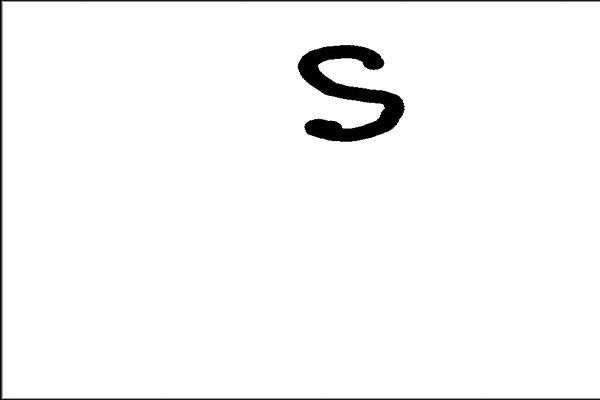S: (289, 40, 408, 145)
